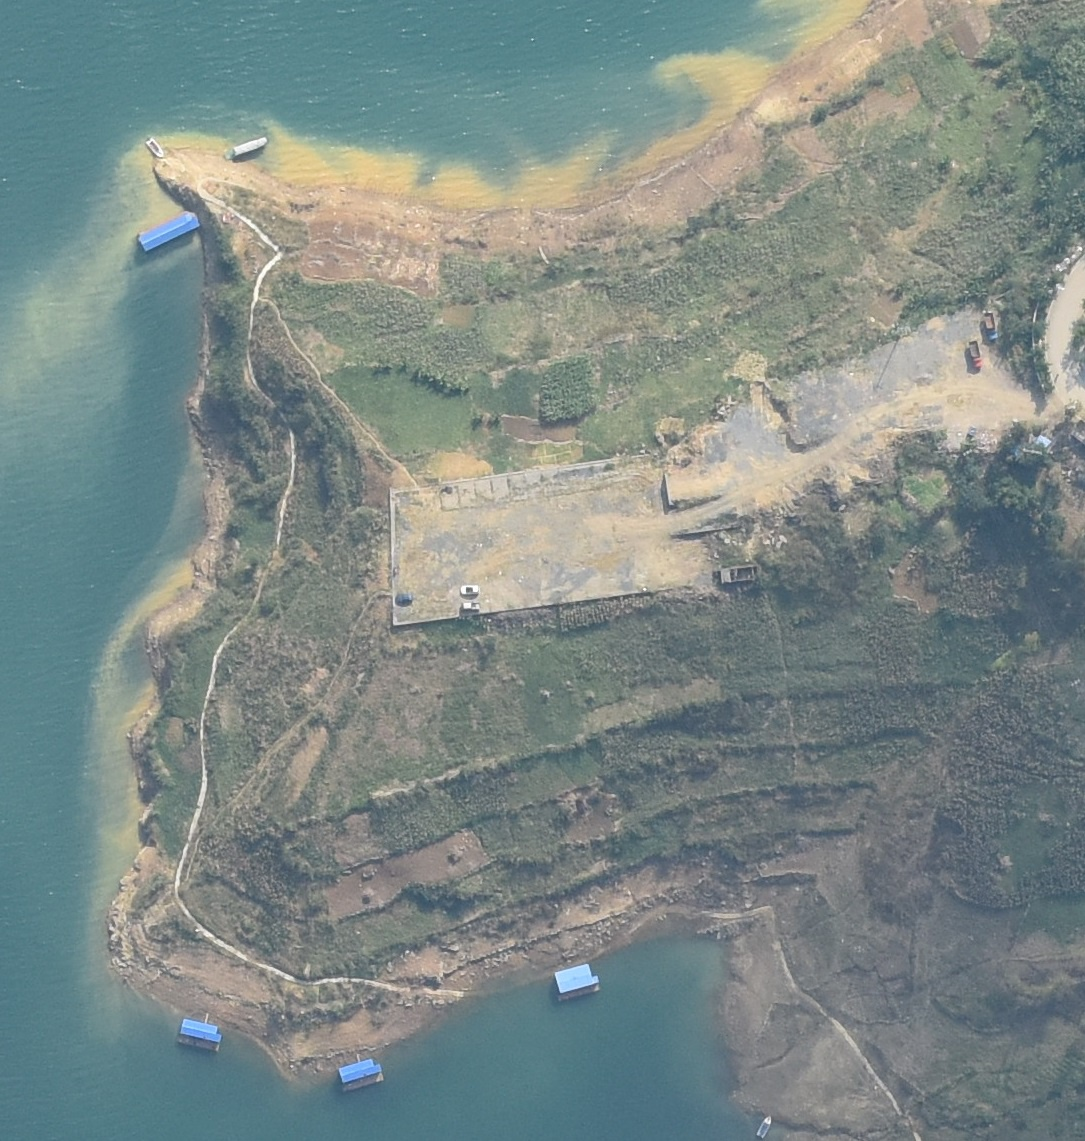prefabricated-house: (135, 209, 201, 254), (554, 964, 601, 998), (337, 1059, 385, 1093), (175, 1019, 220, 1051)
ship: (224, 134, 268, 163), (145, 137, 165, 159), (756, 1115, 772, 1140)
vehicle: (982, 312, 999, 339), (968, 340, 983, 370), (393, 592, 416, 603), (460, 585, 481, 595), (462, 601, 481, 610)
